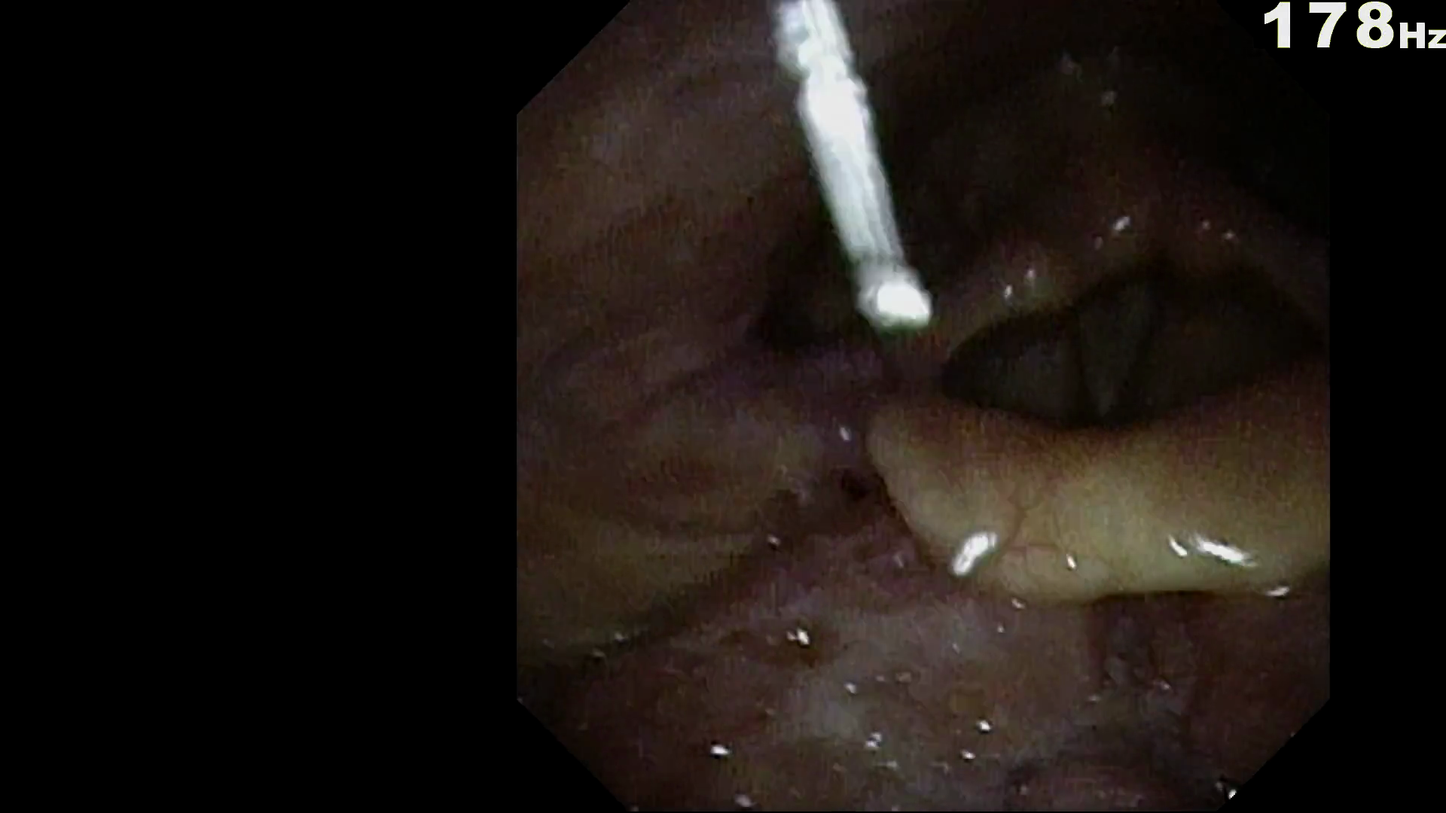epiglottis: (845, 408, 1316, 635)
trachea: (1035, 305, 1182, 459)
